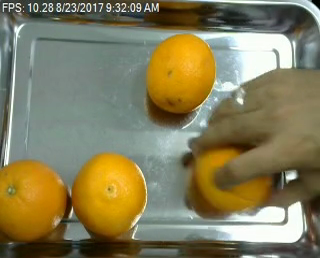Orange: (73, 151, 148, 237), (1, 158, 69, 243), (144, 33, 216, 113)
